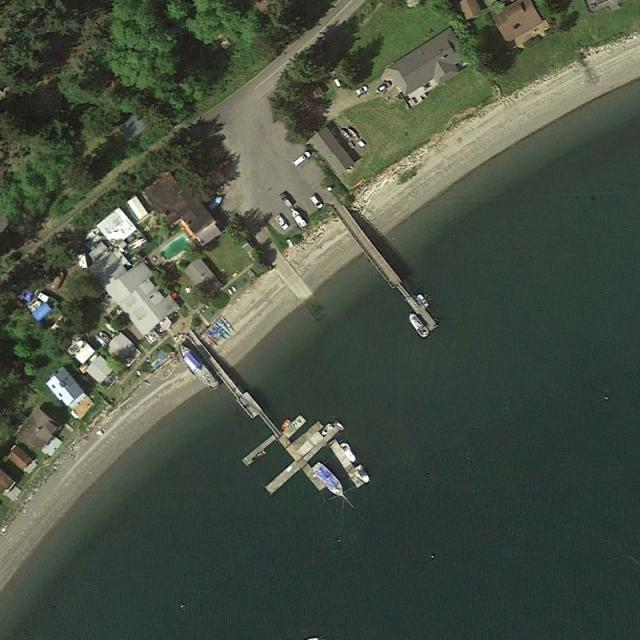vehicle: (294, 152, 310, 168), (275, 214, 288, 230), (310, 194, 322, 207), (377, 82, 388, 93), (357, 85, 367, 94)
